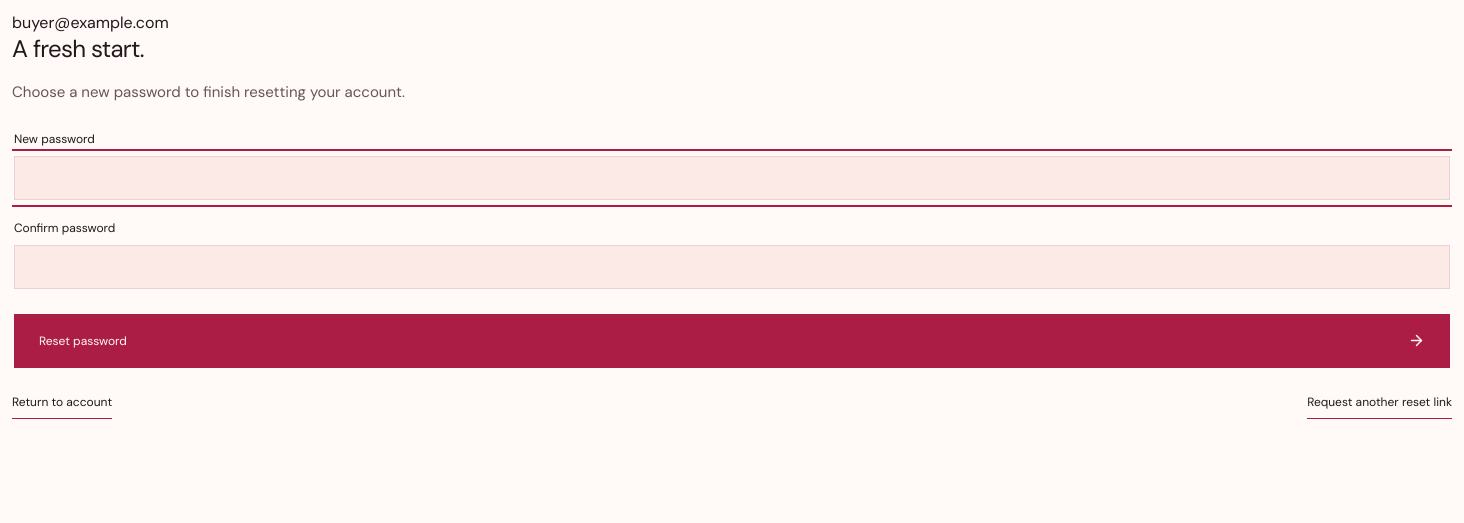
Test: uses the exact token from an email link and clears it from the address bar
Expected: the text with test id "session-user" reads "buyer@example.com", [12,12,169,33]
Expected: the text "Choose a new password to finish resetting your account." is shown, [12,82,405,102]
In the password field labelled "New password": (732, 178) [14,156,1450,200], type "fresh-password-123"
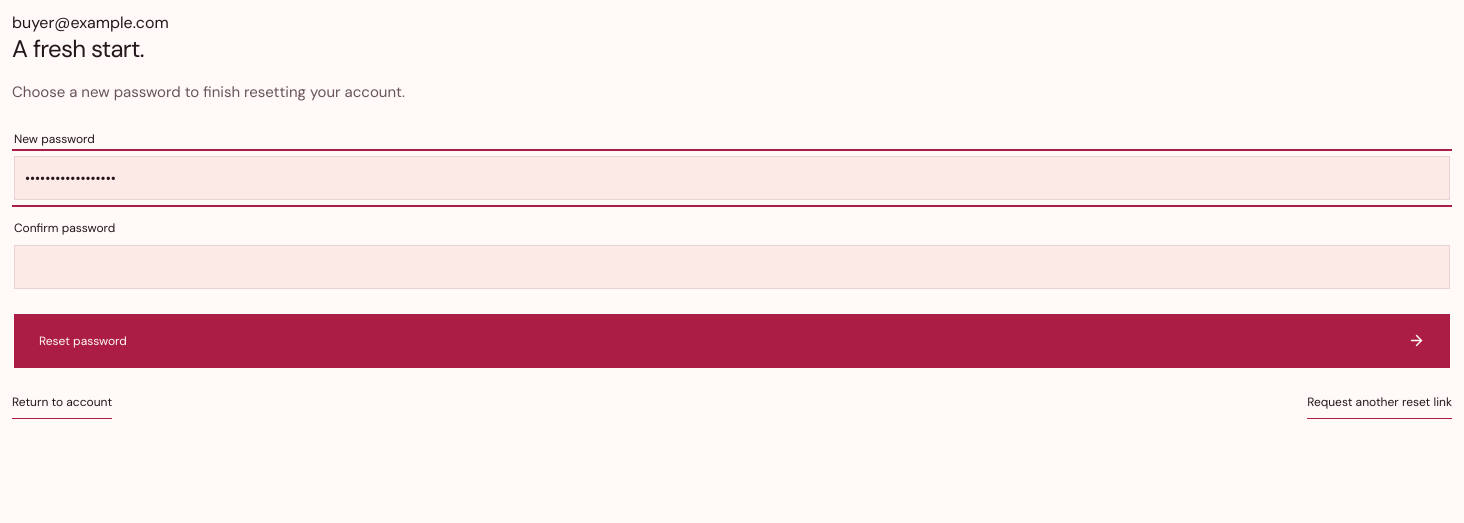
In the password field labelled "Confirm password": (732, 266) [14,244,1450,288], type "fresh-password-123"
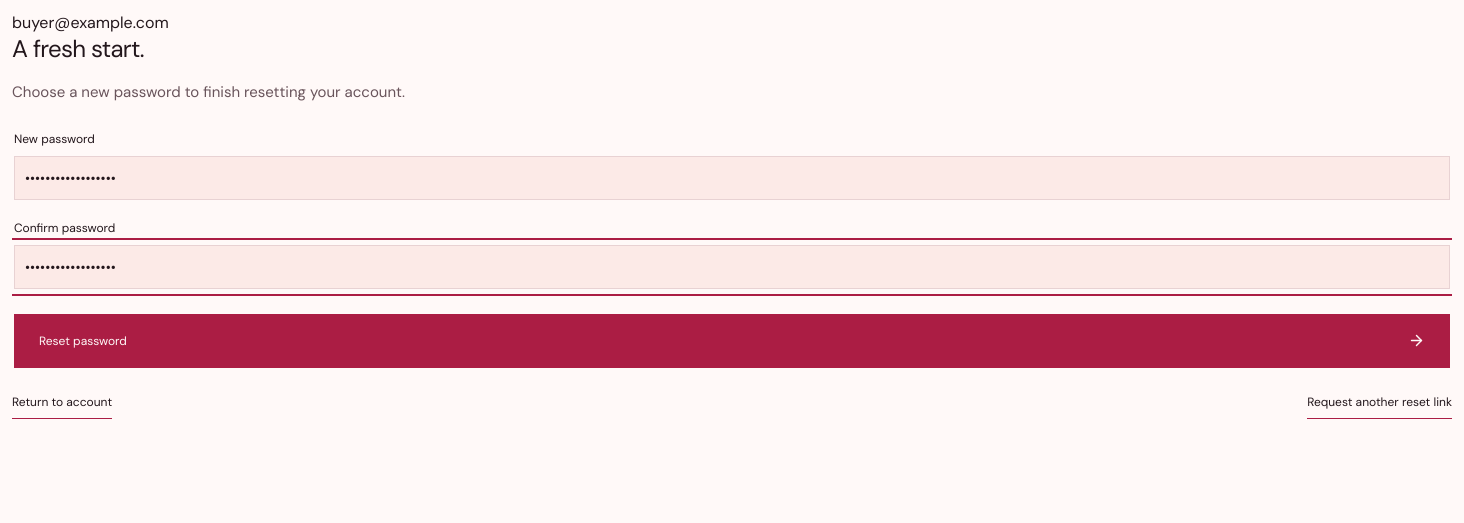
Click the button "Reset password": (83, 340) [14,314,1450,368]
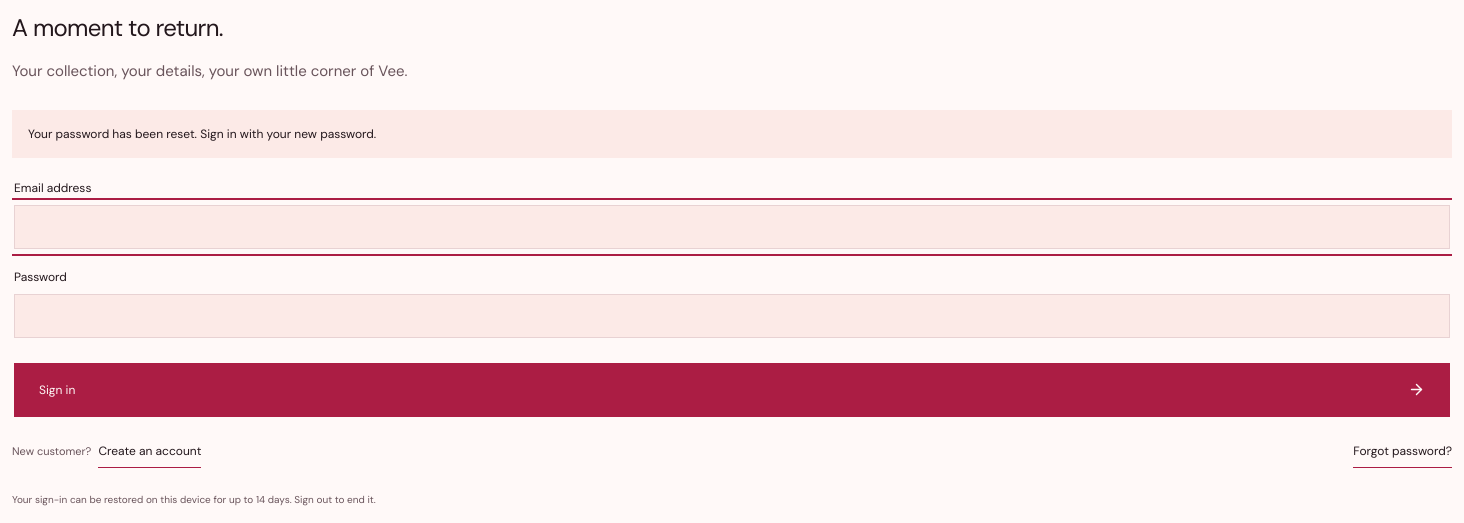
Expected: the text "Your password has been reset. Sign in with your new password." is shown, [12,110,1452,158]
